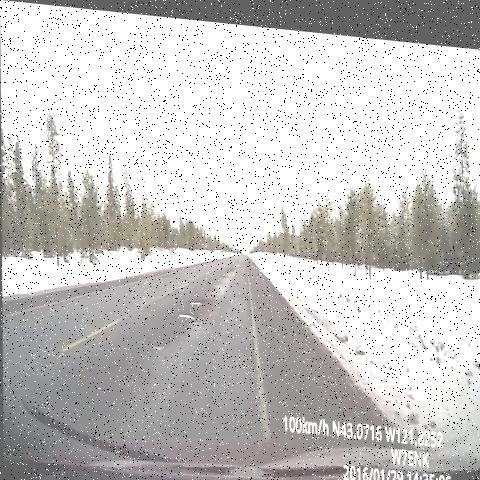pothole: (147, 328, 169, 359), (216, 256, 239, 281), (176, 300, 197, 323), (185, 289, 205, 307)
